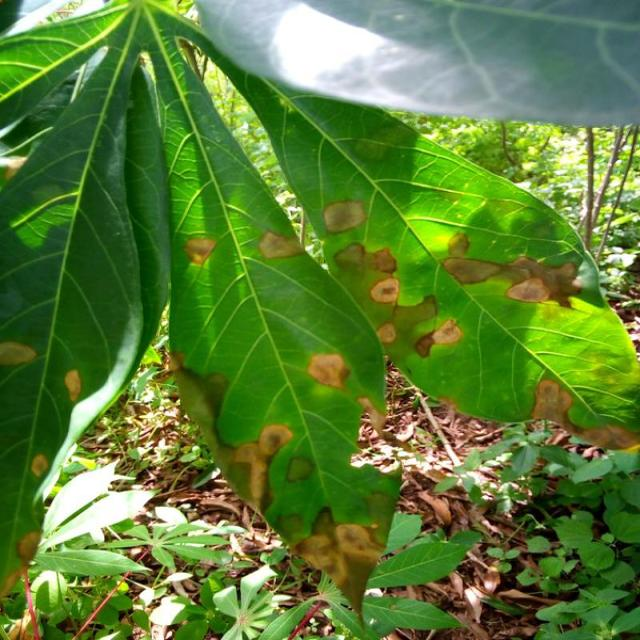cassava leaf: (0, 0, 638, 625), (188, 17, 638, 451), (0, 8, 171, 594)
